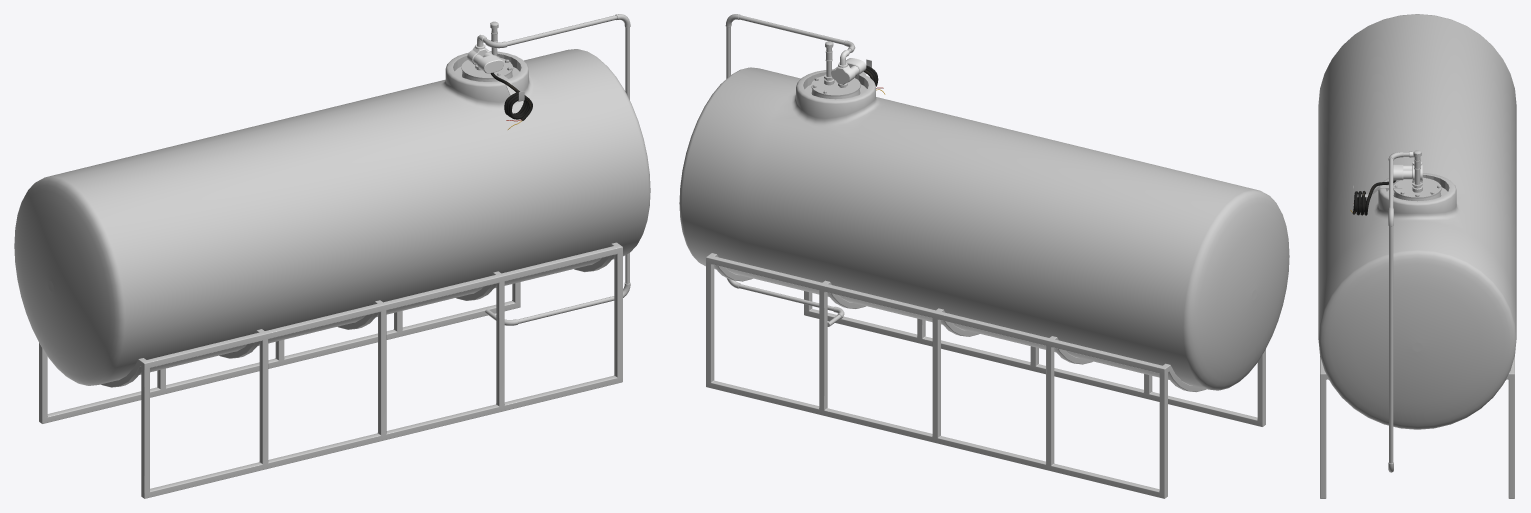
File: KB3D_DMZ_Tank_B.fbx
3 renders of one model, left to right at view 1: azimuth 30°, elevation 25°; view 2: azimuth 150°, elevation 25°; view 3: azimuth 270°, elevation 25°, orthographic. The views are drawn at different scales.
Parts seen in each view (by area): view 1: KB3D_DMZ_Tank_B_Main; view 2: KB3D_DMZ_Tank_B_Main; view 3: KB3D_DMZ_Tank_B_Main.
Boxes of the visible parts, bbox=[...] form: KB3D_DMZ_Tank_B_Main: bbox=[14, 14, 650, 498]; KB3D_DMZ_Tank_B_Main: bbox=[679, 14, 1289, 498]; KB3D_DMZ_Tank_B_Main: bbox=[1318, 14, 1516, 498].
Size of the model in its own units: 478 by 274 by 157.
